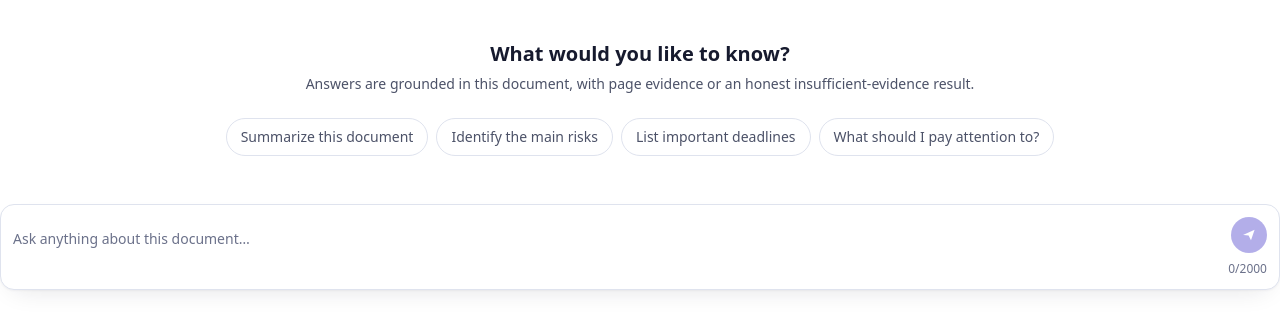
Scenario: AskDocuLens › fails closed when a citation page is absent from the document
In the text box labelled "Ask anything about this document": (618, 239) 13,225 -> 1223,253, type "What applies?"
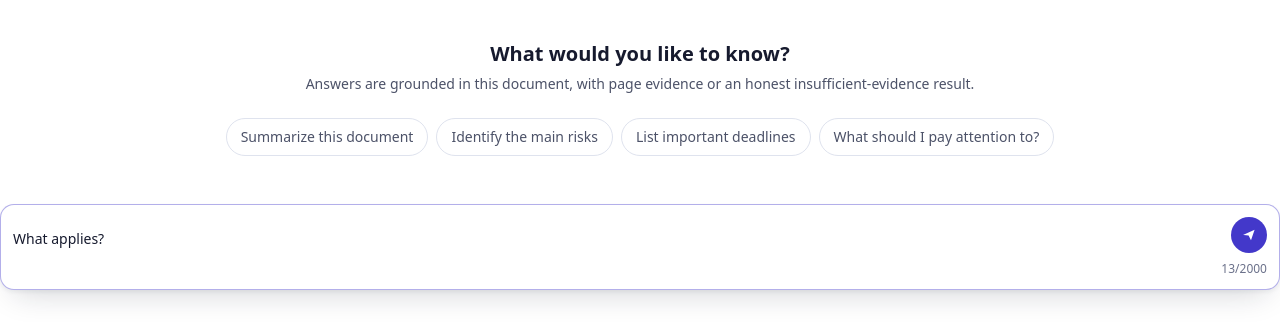
Click the button named "Send question": (1249, 235) 1231,217 -> 1267,253
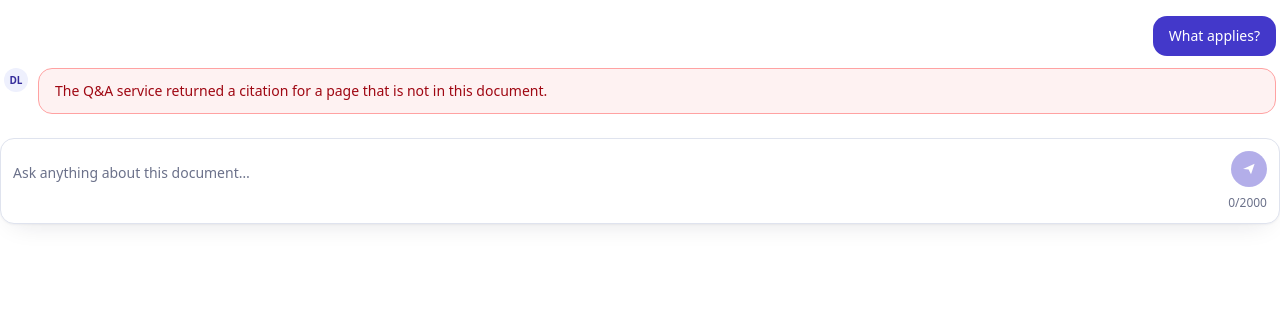
Expected: the message "The Q&A service returned a citation for a page that is not in this document." is shown, 38,68 -> 1276,114
